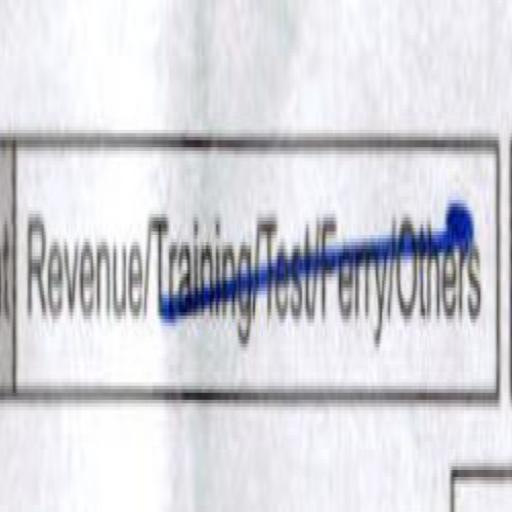check: (16, 146, 144, 374)
